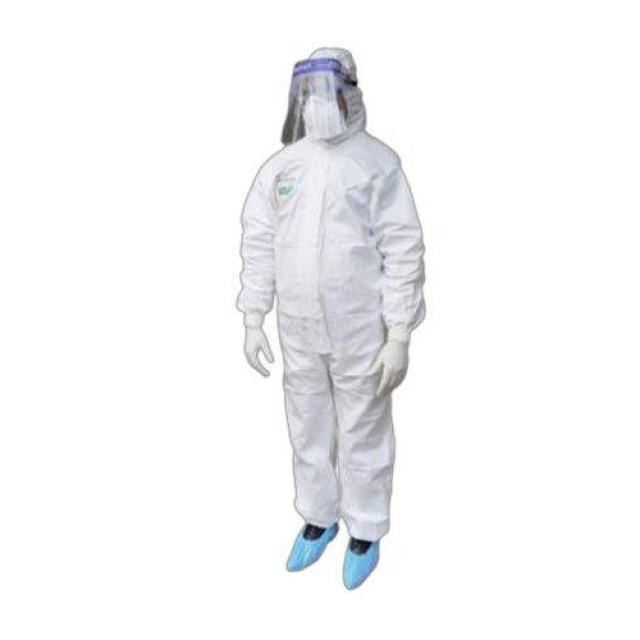gloves: (362, 338, 412, 398), (240, 319, 276, 379)
